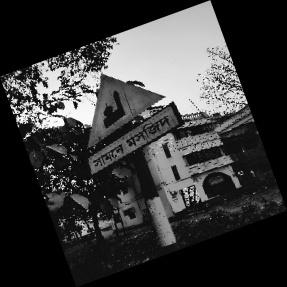Mosque in front: (86, 70, 192, 173)
